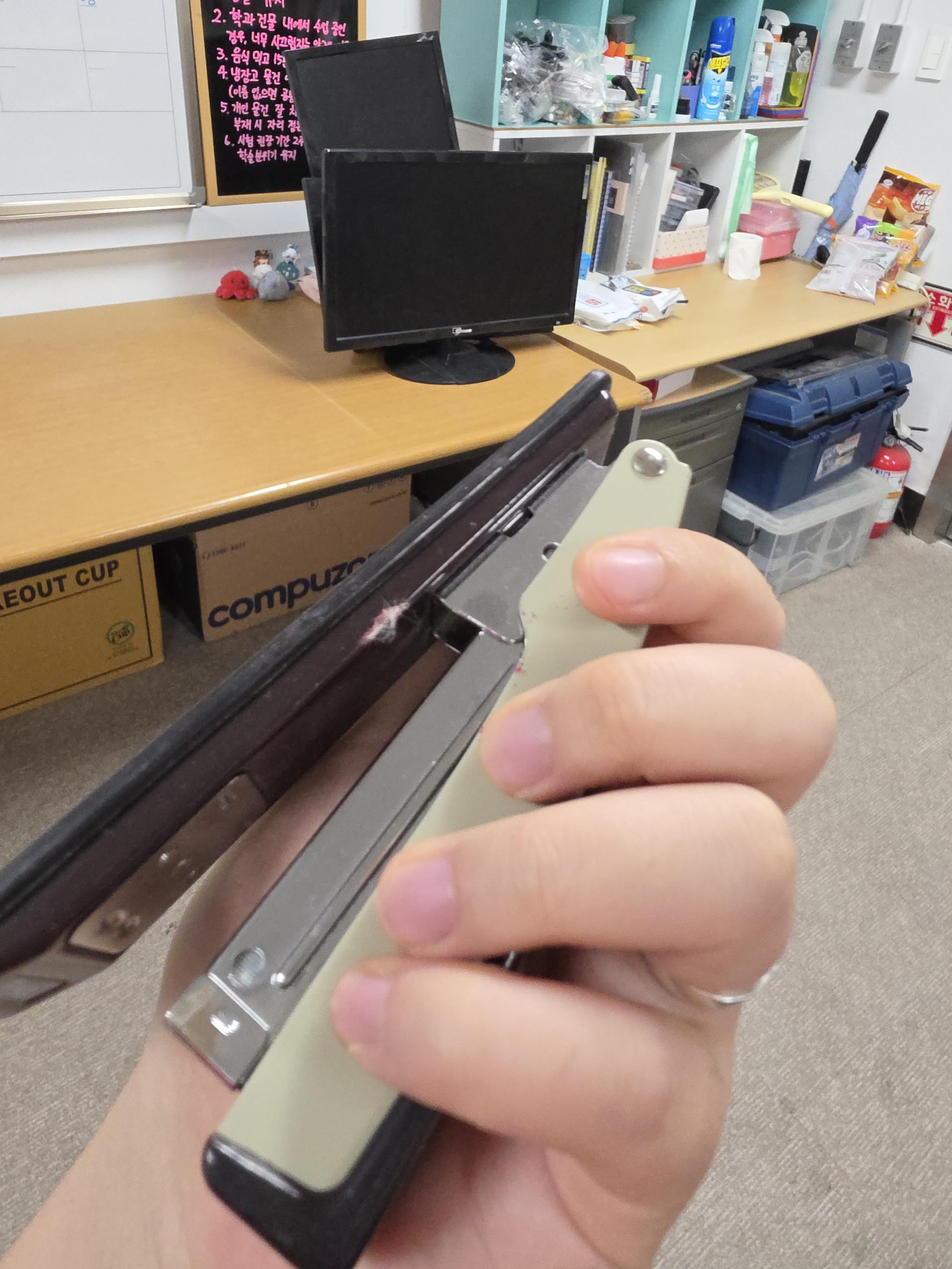stapler: (0, 369, 694, 1269)
tissue: (650, 207, 710, 271), (726, 232, 763, 281)
